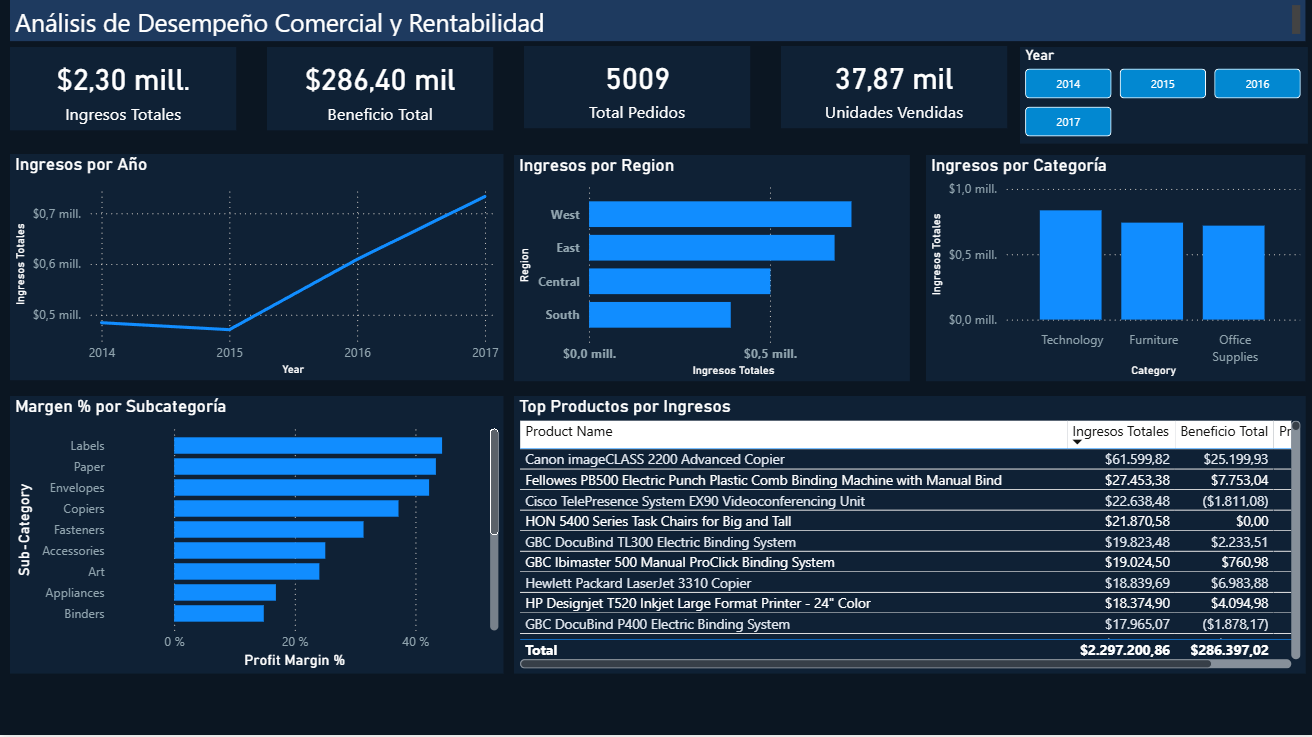

The dashboard page shown, as its layout file describes it:
{"tool":"powerbi","page":{"name":"Página 1","canvas":[1280,720],"ordinal":0},"visuals":[{"type":"card","fields":{"Values":["superstore csv.Total Sales"]},"box":[9.9,51,220.1,80.8],"z":0},{"type":"card","fields":{"Values":["superstore csv.Total Profit"]},"box":[259.9,51,220.1,80.8],"z":1000},{"type":"card","fields":{"Values":["superstore csv.Total Units"]},"box":[760,50,220,80],"z":2000},{"type":"card","fields":{"Values":["superstore csv.Total Orders"]},"box":[510,50,220,80],"z":3000},{"type":"lineChart","title":"Ingresos por Año","fields":{"Y":["superstore csv.Ingresos Totales"],"Category":["superstore csv.Year"]},"box":[10,155,480,220],"z":4000},{"type":"columnChart","title":"Ingresos por Categoría","fields":{"Category":["superstore csv.Category"],"Y":["superstore csv.Total Sales"]},"box":[900.3,155.4,369.3,220.1],"z":5000},{"type":"clusteredBarChart","title":"Margen % por Subcategoría","fields":{"Category":["superstore csv.Sub-Category"],"Y":["superstore csv.Profit Margin %"]},"box":[10,390,480,270],"z":6000},{"type":"clusteredBarChart","title":"Ingresos por Region","fields":{"Y":["superstore csv.Ingresos Totales"],"Category":["superstore csv.Region"]},"box":[499.9,155.4,385.5,220.1],"z":7000},{"type":"tableEx","title":"Top Productos por Ingresos","fields":{"Values":["superstore csv.Product Name","superstore csv.Total Sales","superstore csv.Total Profit","superstore csv.Profit Margin %"]},"box":[500,390,770,269.8],"z":8000},{"type":"textbox","title":"Cuadro principal title","box":[10,5,1260,40],"z":9000},{"type":"advancedSlicerVisual","title":"Year","fields":{"Values":["superstore csv.Year"]},"box":[992.4,50.6,280,93.7],"z":10000}]}

Visuals, with their boxes in screenshot pixels (x1, y1, x2, y2), scaled from the page's 1280x720 canvas onto the 1312x737 screenshot:
card - superstore csv.Total Sales: box(10, 52, 236, 135)
card - superstore csv.Total Profit: box(266, 52, 492, 135)
card - superstore csv.Total Units: box(779, 51, 1004, 133)
card - superstore csv.Total Orders: box(523, 51, 748, 133)
"Ingresos por Año" lineChart: box(10, 159, 502, 384)
"Ingresos por Categoría" columnChart: box(923, 159, 1301, 384)
"Margen % por Subcategoría" clusteredBarChart: box(10, 399, 502, 676)
"Ingresos por Region" clusteredBarChart: box(512, 159, 908, 384)
"Top Productos por Ingresos" tableEx: box(512, 399, 1302, 675)
"Cuadro principal title" textbox: box(10, 5, 1302, 46)
"Year" advancedSlicerVisual: box(1017, 52, 1304, 148)
